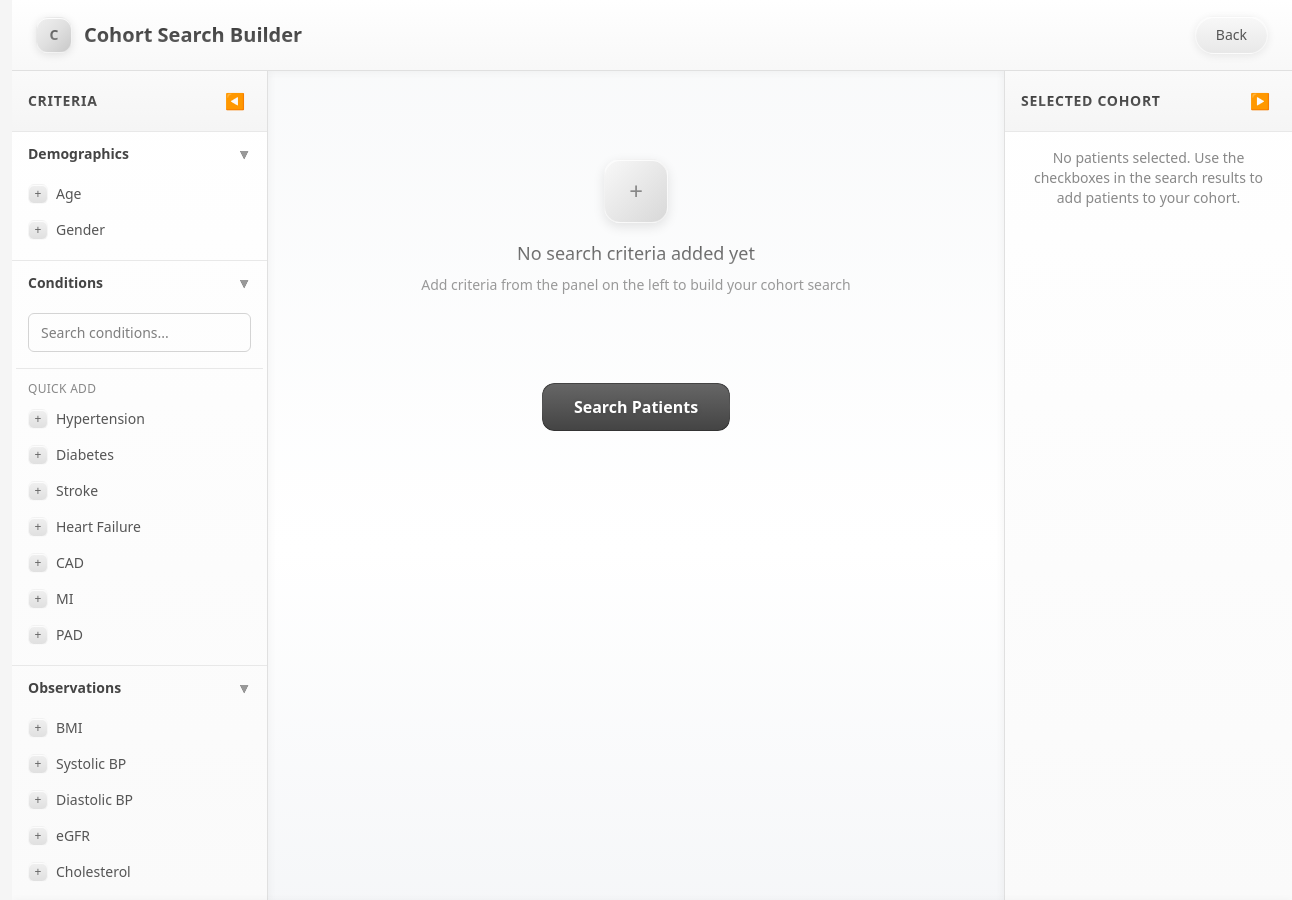
it: CohortBuilderPage › Panel toggling › should collapse criteria panel
Click the button named "Collapse criteria panel".
click(235, 101)  # box [219, 83, 251, 119]
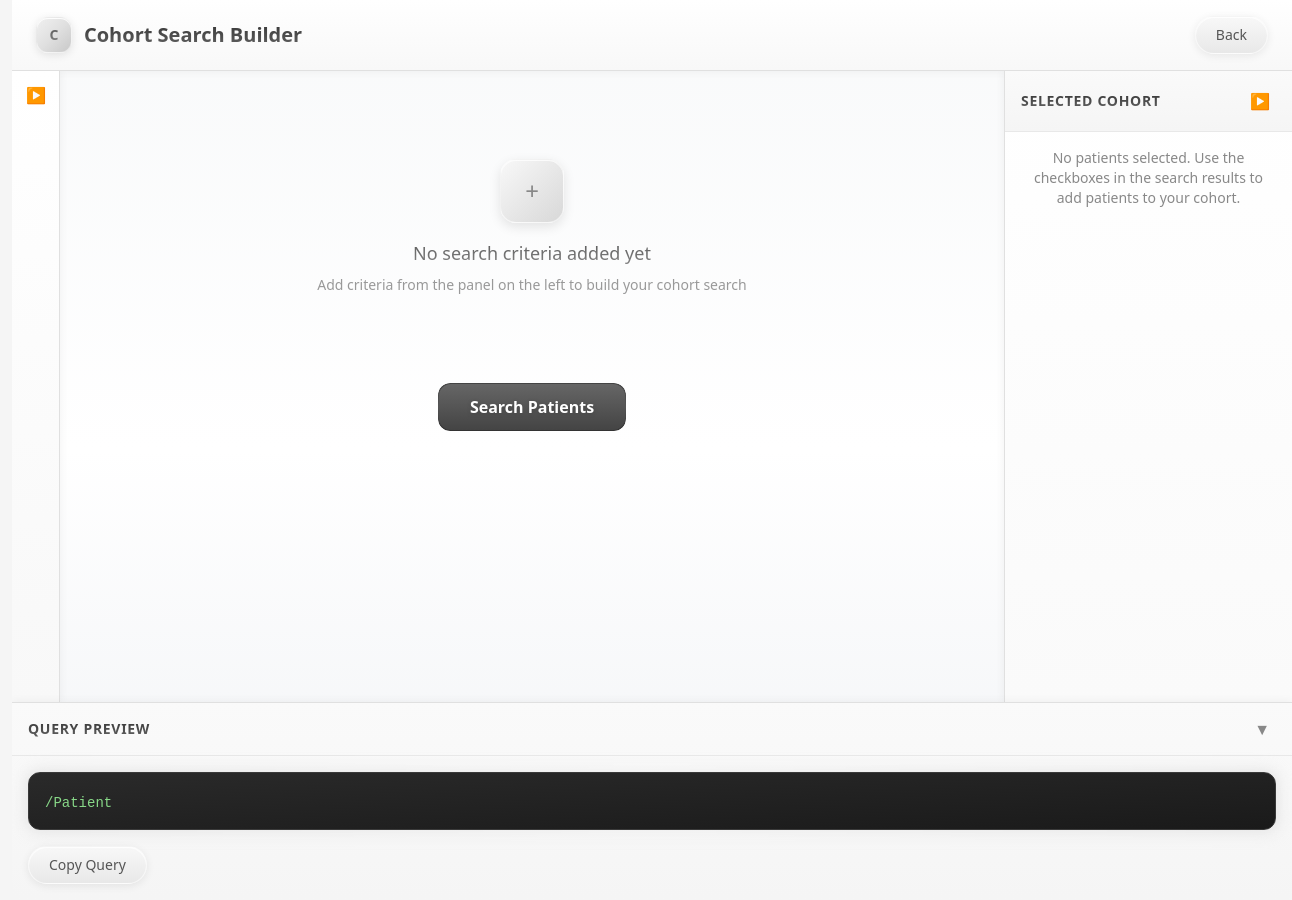
Now the button "Demographics" is gone
Now the button named "Expand criteria panel" is shown, box [12, 71, 59, 119]
